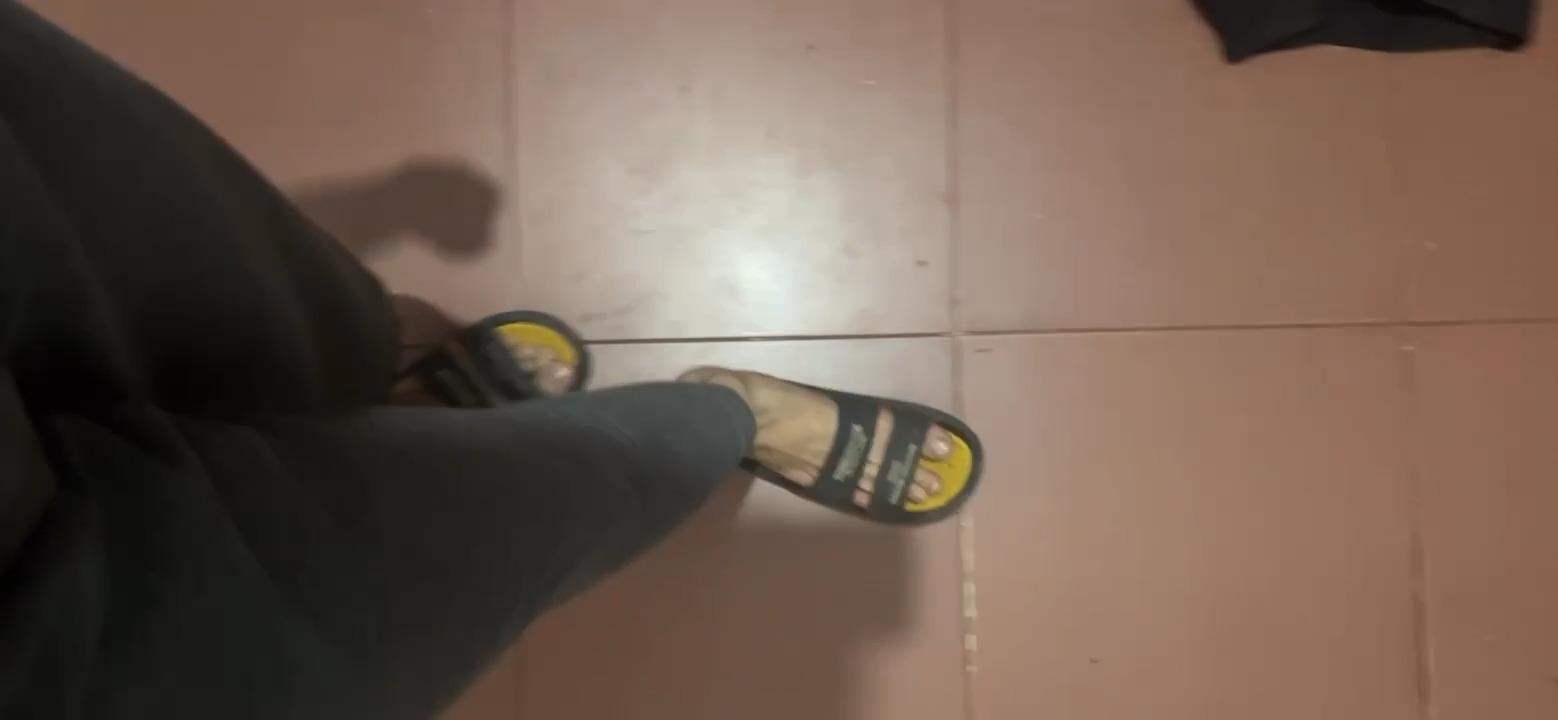no-boot: (679, 341, 980, 550), (377, 289, 590, 421)
